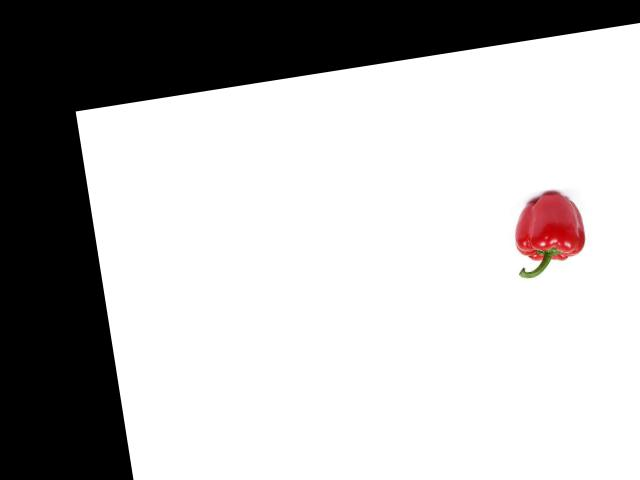bell_pepper: (503, 185, 596, 281)
